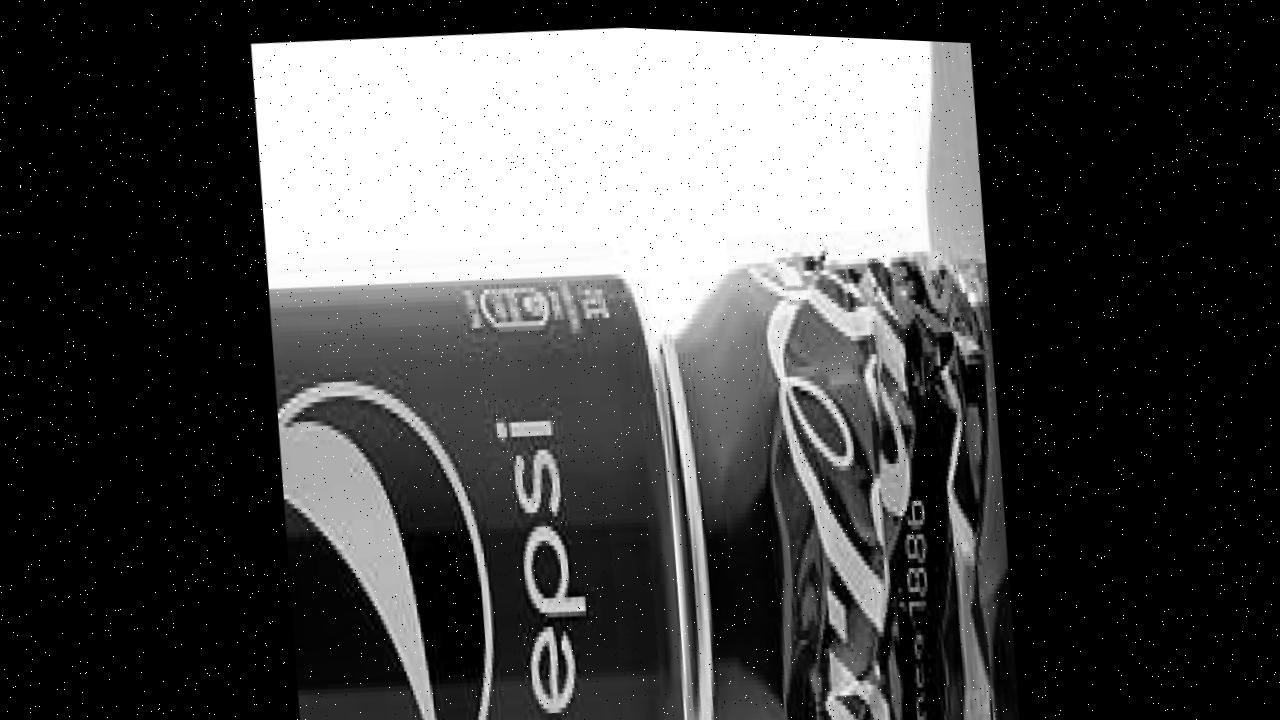drinks Stains: (898, 32, 1030, 720)
